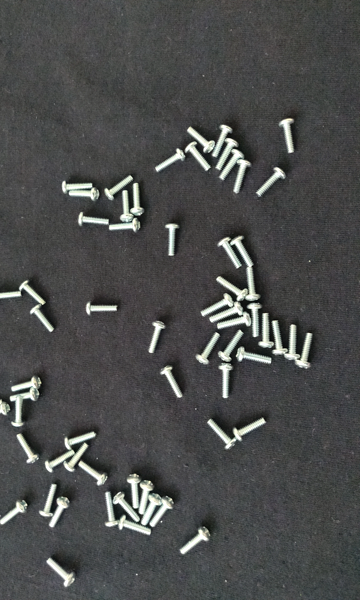shortscrew: (207, 419, 238, 450), (256, 167, 287, 198), (47, 558, 78, 587), (181, 527, 212, 555), (219, 329, 245, 362), (196, 332, 221, 366), (234, 417, 268, 442), (155, 147, 187, 173), (187, 126, 216, 154), (105, 174, 135, 201), (219, 150, 245, 181), (151, 496, 176, 528), (160, 365, 184, 398), (216, 138, 240, 171), (0, 499, 30, 525), (113, 492, 139, 522), (185, 142, 211, 172), (16, 434, 41, 465), (217, 237, 242, 268), (64, 444, 90, 473), (201, 294, 235, 316), (40, 484, 61, 519), (30, 304, 55, 333), (217, 277, 247, 301), (210, 302, 244, 323), (231, 236, 254, 267), (19, 279, 46, 305), (45, 450, 74, 474), (120, 516, 153, 537), (213, 125, 233, 159), (296, 332, 314, 369), (50, 497, 71, 528), (80, 463, 108, 486), (142, 494, 162, 526), (237, 347, 272, 365), (234, 159, 252, 194), (105, 492, 122, 529), (148, 320, 166, 354), (64, 432, 97, 450), (285, 324, 301, 361), (218, 312, 252, 329), (273, 320, 289, 356), (280, 118, 296, 154), (244, 268, 261, 301), (140, 480, 156, 515), (220, 363, 235, 399), (260, 313, 275, 348), (130, 183, 145, 218), (248, 303, 263, 337), (166, 223, 181, 257), (109, 218, 143, 233), (127, 474, 141, 509), (85, 302, 117, 316), (69, 188, 101, 202), (79, 212, 110, 226), (121, 190, 134, 223), (12, 397, 26, 427), (62, 182, 94, 195), (0, 290, 23, 304), (0, 403, 13, 421), (0, 399, 3, 418)
